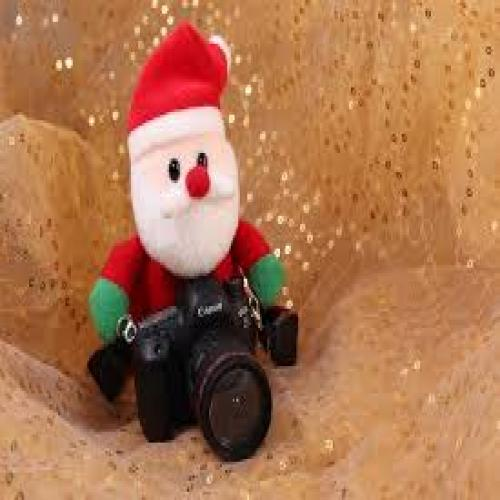Santa: (88, 19, 287, 342)
